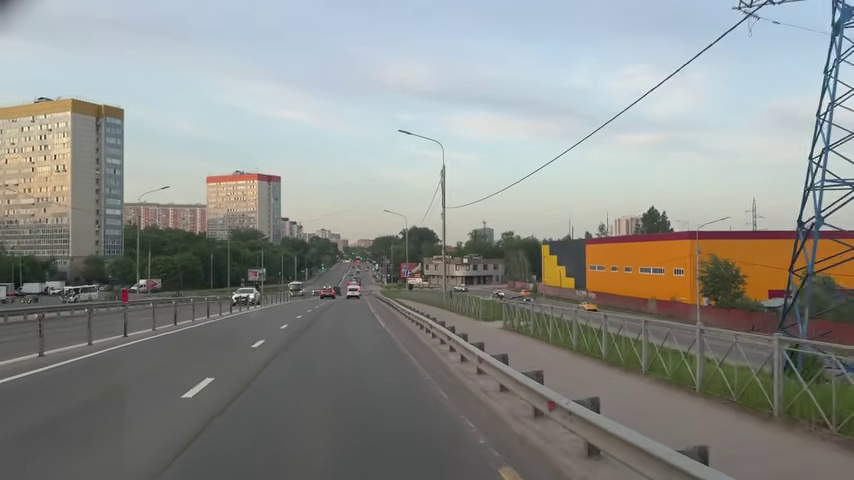apagada: (395, 124, 412, 138)
